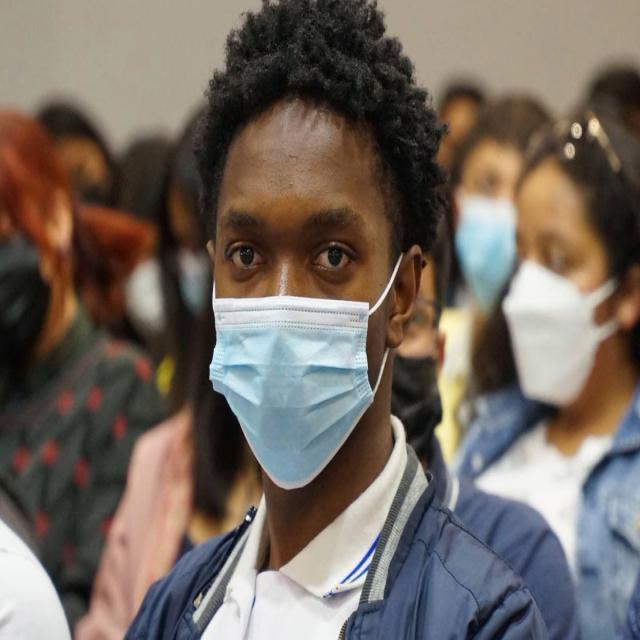adult: (129, 0, 540, 640)
